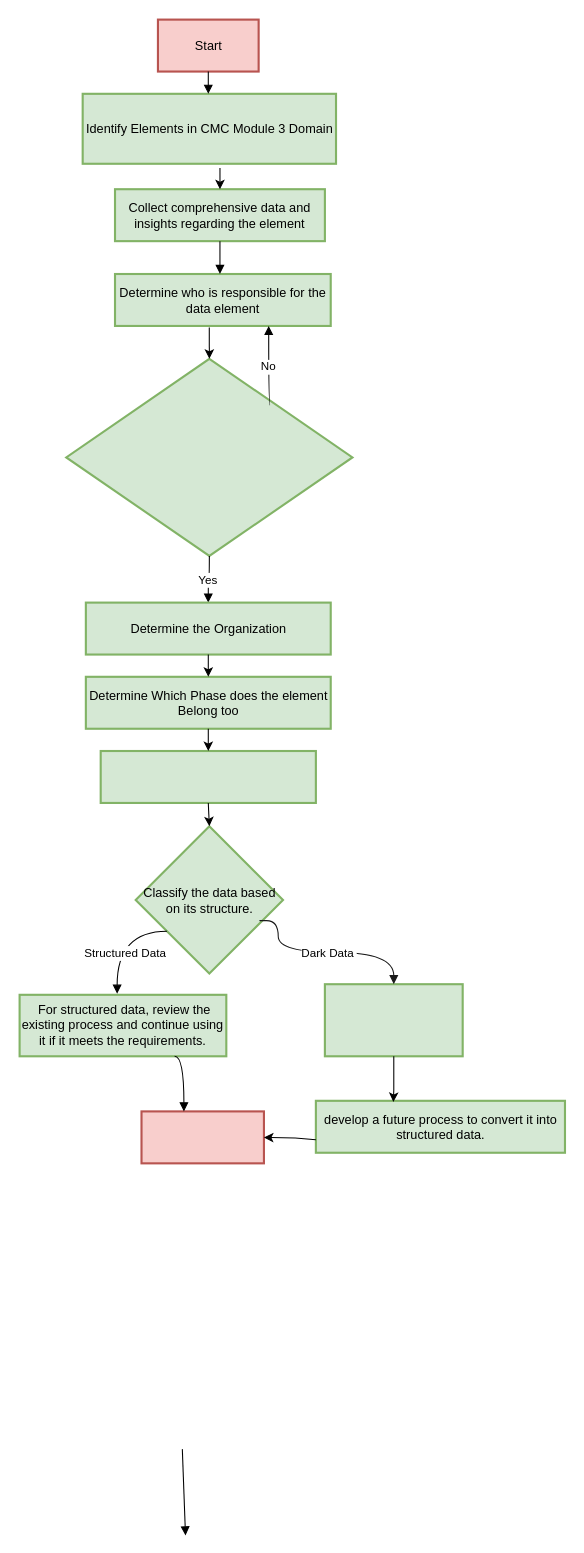
This 584x1553 diagram has some shape labels left out. The centre of each missing label's shape, as x and y in pixels:
"Does Data Owner Know About the Element?" goes at (209,456).
"End" goes at (202,1137).
"Engage with the data owner to understand the existing process." goes at (207,776).
"Work with stakeholders to understand the current process for handling dark data" goes at (393,1020).
